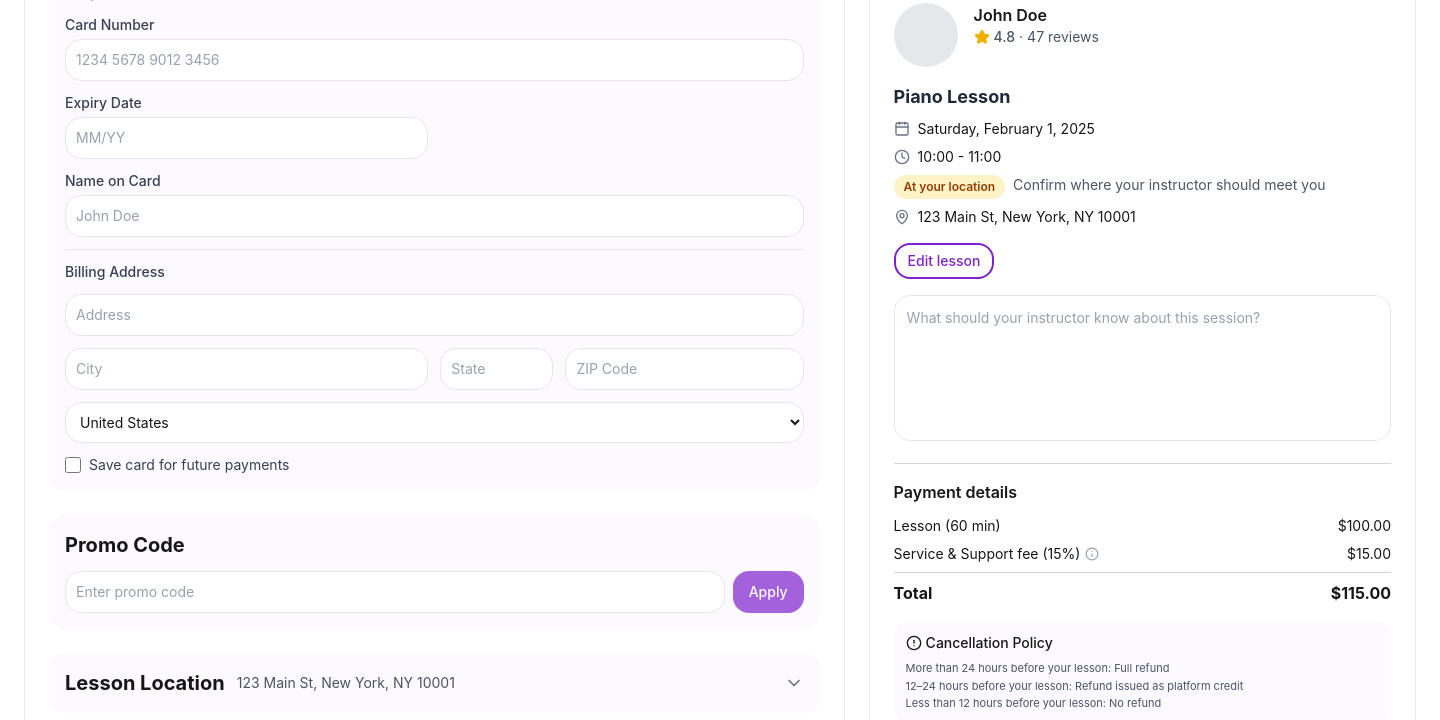
PaymentConfirmation › location section › shows saved location with change button
# Expand location section
Step 1. Click the heading "Lesson Location" → (145, 683), box [65, 669, 225, 697]
(page scrolled)
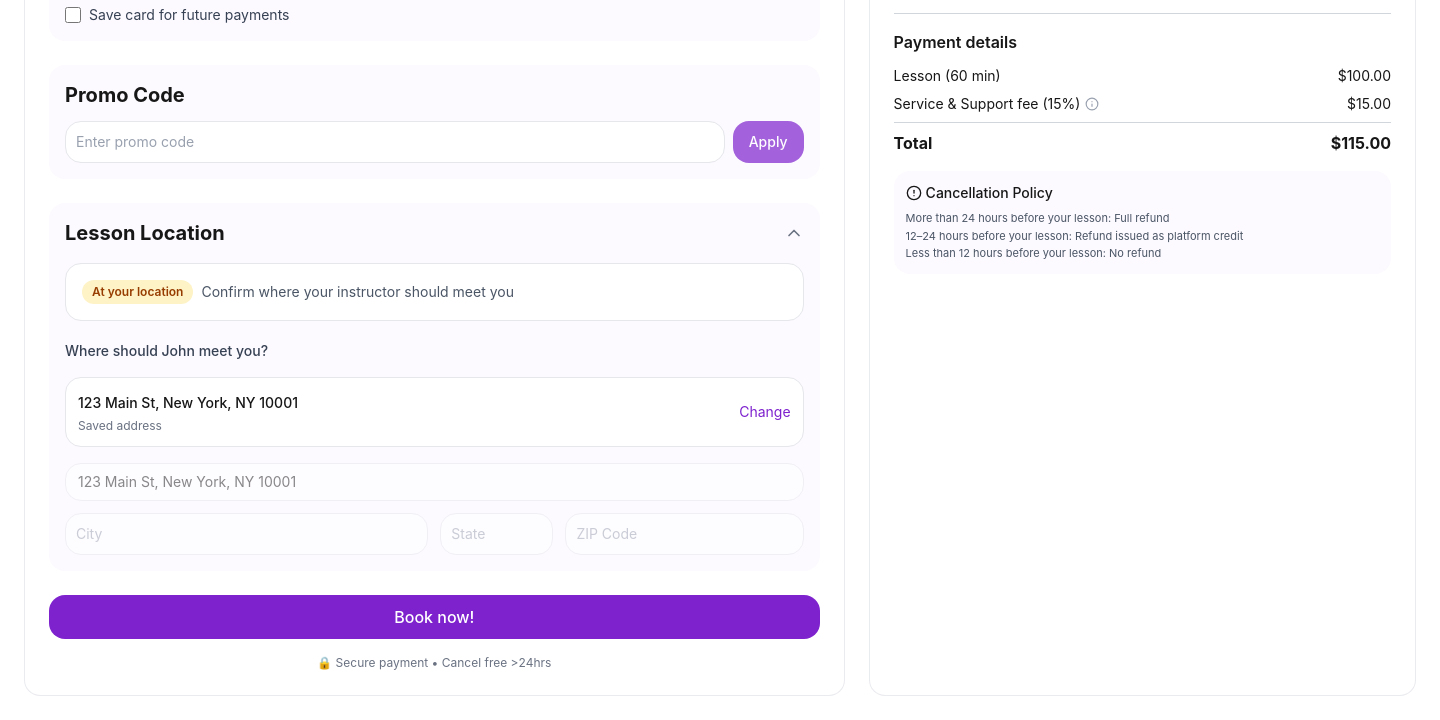
Expected: the text "Saved address" is shown, [78, 418, 162, 433]
Expected: the button "Change" is shown, [739, 402, 791, 422]
